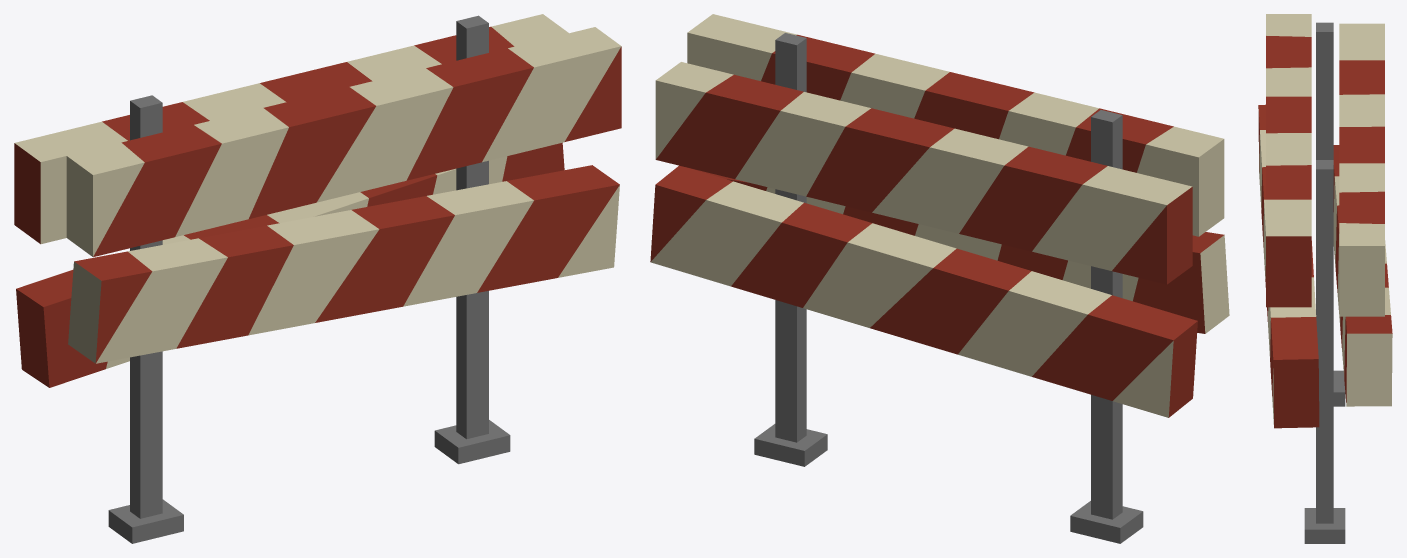
File: Construction board.fbx
The picture shows the model from 3 angles, left to right: view 1: azimuth 30°, elevation 25°; view 2: azimuth 150°, elevation 25°; view 3: azimuth 270°, elevation 25°; orthographic projection. The views are drawn at different scales.
Parts seen in each view (by area): view 1: Construction board; view 2: Construction board; view 3: Construction board.
Part boxes in pixels (x1,y1,x2,y2): Construction board: (14,14,621,543); Construction board: (650,14,1229,543); Construction board: (1258,14,1392,543).
Bounding box in the file's own units: 492 × 369 × 122.
